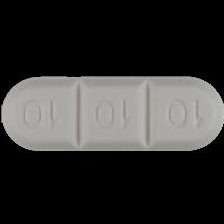21695-195: (0, 0, 224, 224)
